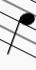HC: (5, 0, 34, 62)
